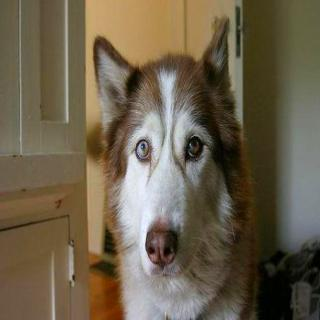dog: (96, 25, 238, 284)
nose: (141, 226, 180, 268)
